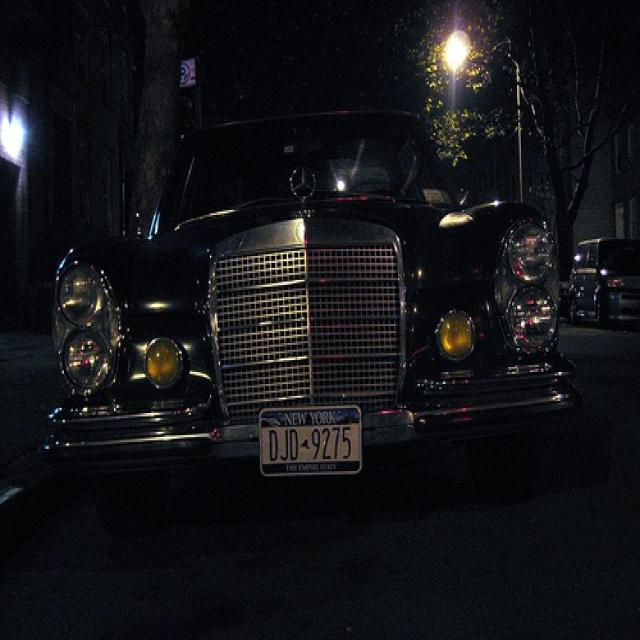car: (42, 102, 584, 544), (570, 236, 638, 330)
